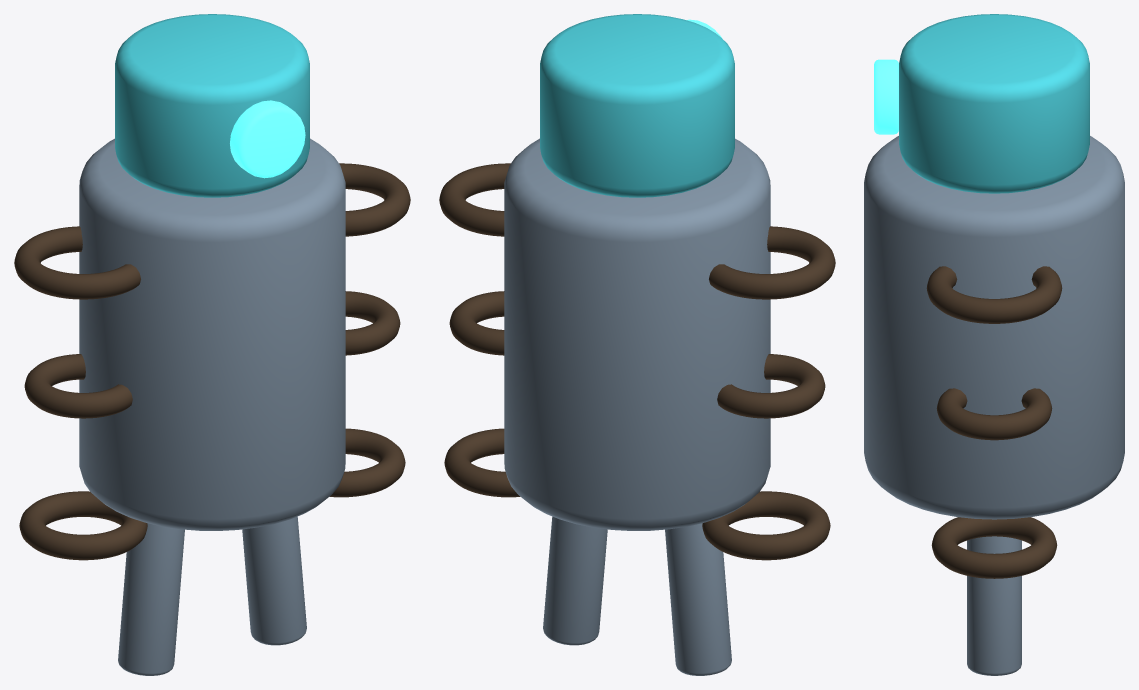
The model's file is construct_v5.glb.
The picture shows the model from 3 angles, left to right: view 1: azimuth 30°, elevation 25°; view 2: azimuth 150°, elevation 25°; view 3: azimuth 270°, elevation 25°; orthographic projection. The views are drawn at different scales.
Visible parts, largest first — view 1: AUTOMATON_TORSO_PRIMARY, AUTOMATON_HEAD_ACCENT, AUTOMATON_LEG_PRIMARY, AUTOMATON_LEG_PRIMARY.001, AUTOMATON_GEAR_SECONDARY.002, AUTOMATON_GEAR_SECONDARY, AUTOMATON_EYE_EMISSIVE, AUTOMATON_GEAR_SECONDARY.001, AUTOMATON_GEAR_SECONDARY.003, AUTOMATON_GEAR_SECONDARY.005, AUTOMATON_GEAR_SECONDARY.004; view 2: AUTOMATON_TORSO_PRIMARY, AUTOMATON_HEAD_ACCENT, AUTOMATON_LEG_PRIMARY, AUTOMATON_LEG_PRIMARY.001, AUTOMATON_GEAR_SECONDARY.002, AUTOMATON_GEAR_SECONDARY, AUTOMATON_GEAR_SECONDARY.001, AUTOMATON_GEAR_SECONDARY.003, AUTOMATON_GEAR_SECONDARY.005, AUTOMATON_GEAR_SECONDARY.004; view 3: AUTOMATON_TORSO_PRIMARY, AUTOMATON_HEAD_ACCENT, AUTOMATON_LEG_PRIMARY.001, AUTOMATON_GEAR_SECONDARY.005, AUTOMATON_GEAR_SECONDARY.003, AUTOMATON_GEAR_SECONDARY.004, AUTOMATON_EYE_EMISSIVE.
Part boxes in pixels (x1=…): AUTOMATON_TORSO_PRIMARY: x1=79, y1=138, x2=345, y2=530; AUTOMATON_HEAD_ACCENT: x1=115, y1=14, x2=309, y2=197; AUTOMATON_LEG_PRIMARY: x1=118, y1=523, x2=184, y2=675; AUTOMATON_LEG_PRIMARY.001: x1=242, y1=516, x2=306, y2=645; AUTOMATON_GEAR_SECONDARY.002: x1=19, y1=491, x2=147, y2=560; AUTOMATON_GEAR_SECONDARY: x1=14, y1=226, x2=140, y2=299; AUTOMATON_EYE_EMISSIVE: x1=230, y1=100, x2=305, y2=178; AUTOMATON_GEAR_SECONDARY.001: x1=24, y1=354, x2=132, y2=418; AUTOMATON_GEAR_SECONDARY.003: x1=339, y1=163, x2=410, y2=236; AUTOMATON_GEAR_SECONDARY.005: x1=329, y1=428, x2=405, y2=497; AUTOMATON_GEAR_SECONDARY.004: x1=345, y1=291, x2=400, y2=355; AUTOMATON_TORSO_PRIMARY: x1=504, y1=138, x2=770, y2=530; AUTOMATON_HEAD_ACCENT: x1=540, y1=14, x2=734, y2=197; AUTOMATON_LEG_PRIMARY: x1=665, y1=523, x2=731, y2=675; AUTOMATON_LEG_PRIMARY.001: x1=543, y1=516, x2=607, y2=645; AUTOMATON_GEAR_SECONDARY.002: x1=702, y1=491, x2=830, y2=560; AUTOMATON_GEAR_SECONDARY: x1=709, y1=226, x2=835, y2=299; AUTOMATON_GEAR_SECONDARY.001: x1=717, y1=354, x2=825, y2=418; AUTOMATON_GEAR_SECONDARY.003: x1=439, y1=163, x2=510, y2=236; AUTOMATON_GEAR_SECONDARY.005: x1=444, y1=428, x2=520, y2=497; AUTOMATON_GEAR_SECONDARY.004: x1=449, y1=291, x2=504, y2=355; AUTOMATON_TORSO_PRIMARY: x1=864, y1=136, x2=1124, y2=519; AUTOMATON_HEAD_ACCENT: x1=899, y1=14, x2=1089, y2=193; AUTOMATON_LEG_PRIMARY.001: x1=967, y1=536, x2=1021, y2=675; AUTOMATON_GEAR_SECONDARY.005: x1=931, y1=517, x2=1057, y2=578; AUTOMATON_GEAR_SECONDARY.003: x1=926, y1=266, x2=1062, y2=323; AUTOMATON_GEAR_SECONDARY.004: x1=936, y1=388, x2=1052, y2=440; AUTOMATON_EYE_EMISSIVE: x1=874, y1=59, x2=898, y2=134.
Bounding box in the file's own units: 1.7 × 2.59 × 1.04.
